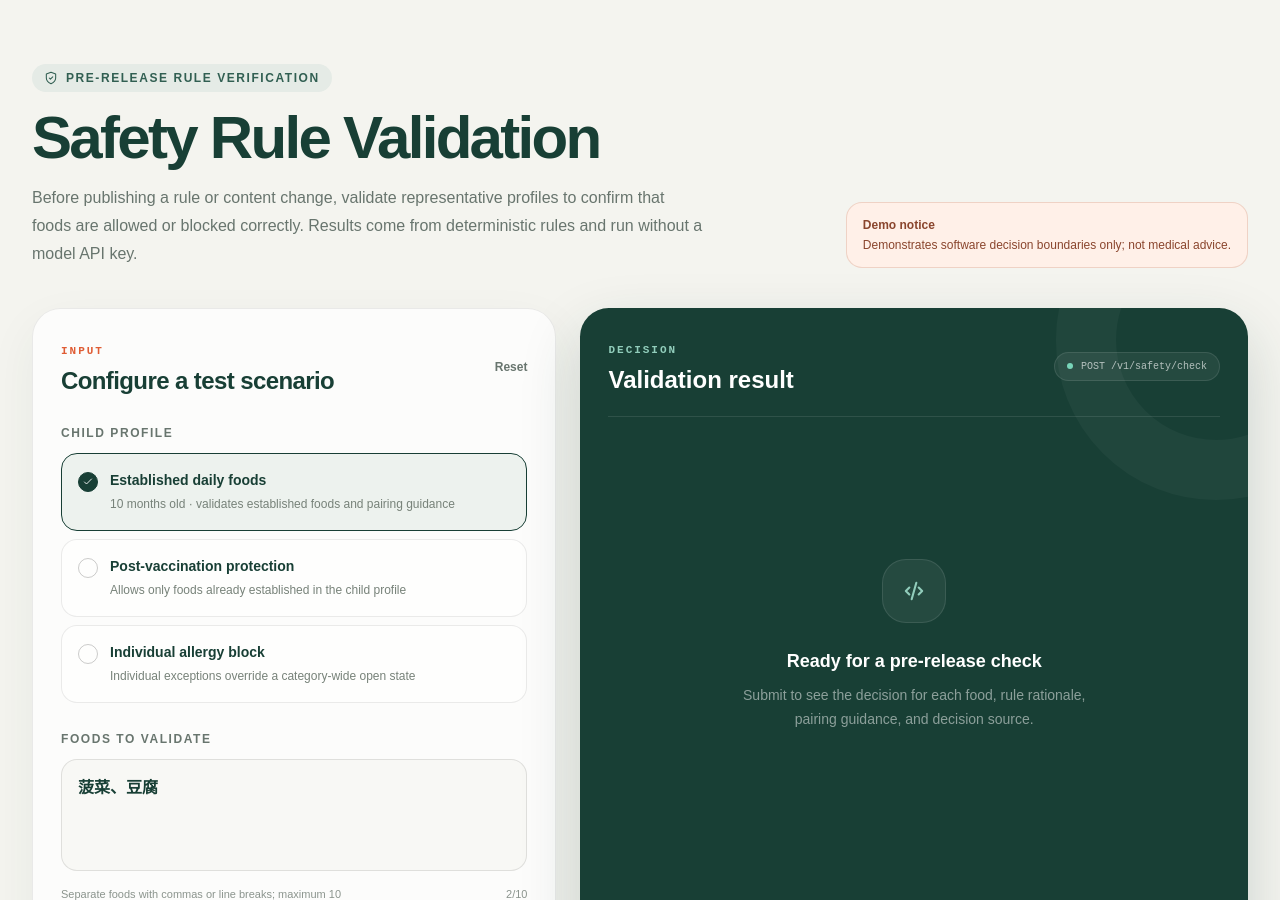
Test: SafetyLabPage › disables empty submissions, parses separators, and resets the lab
Clear the text box labelled "Foods to validate": [294, 815] box x1=61 y1=759 x2=528 y2=871
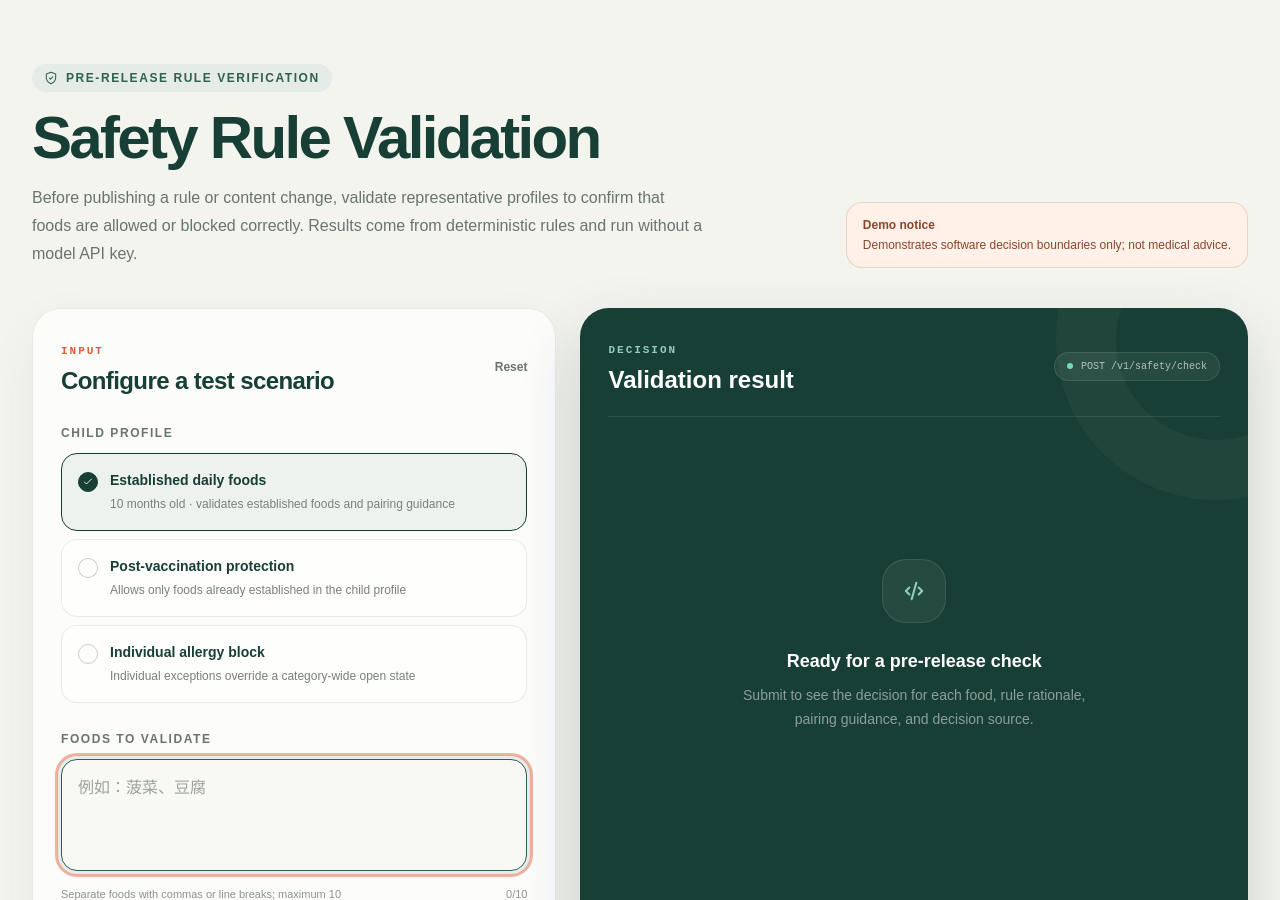
In the text box labelled "Foods to validate": [294, 815] box x1=61 y1=759 x2=528 y2=871, type "菠菜、菠菜、豆腐"
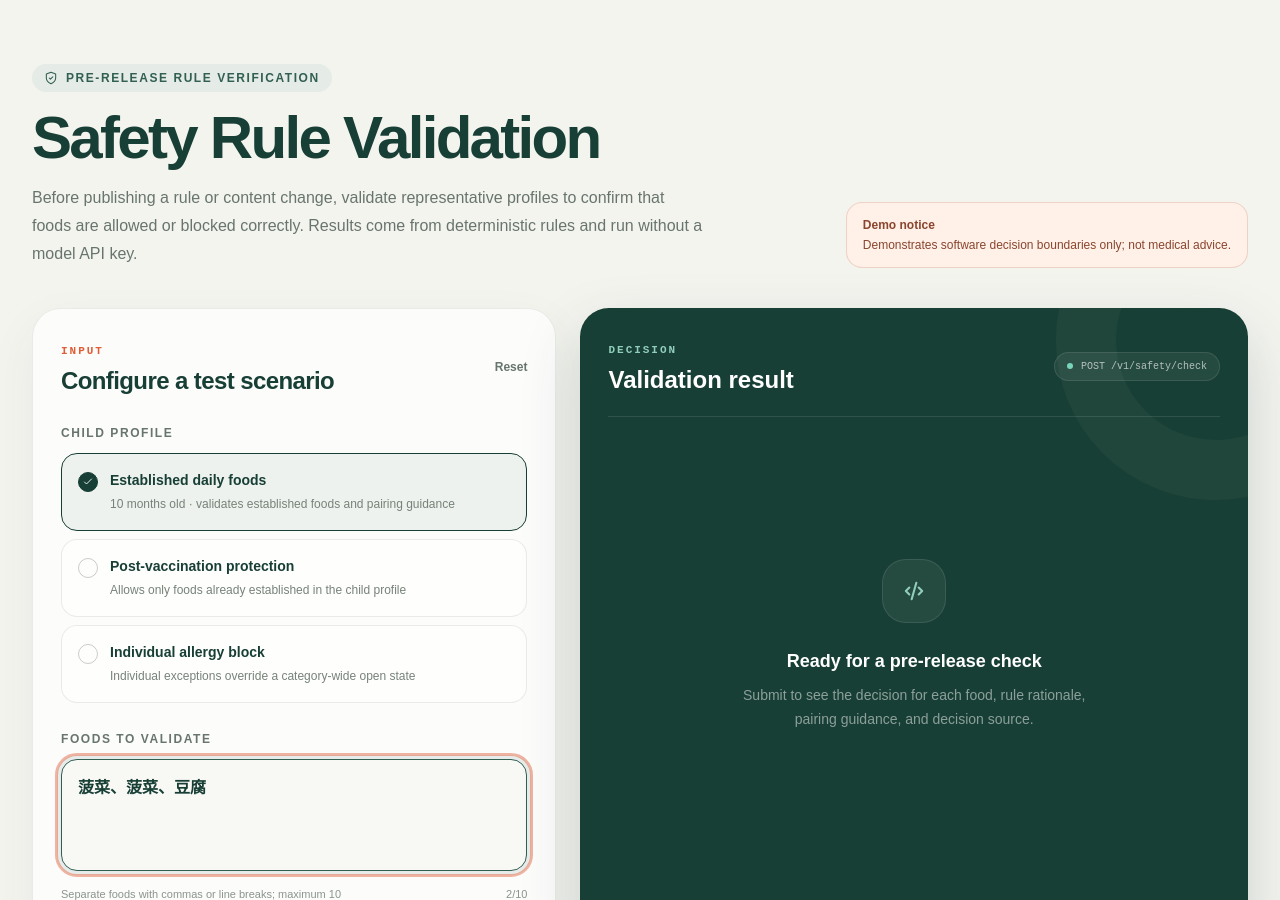
Click the button "Reset": [511, 367] box x1=495 y1=359 x2=528 y2=375
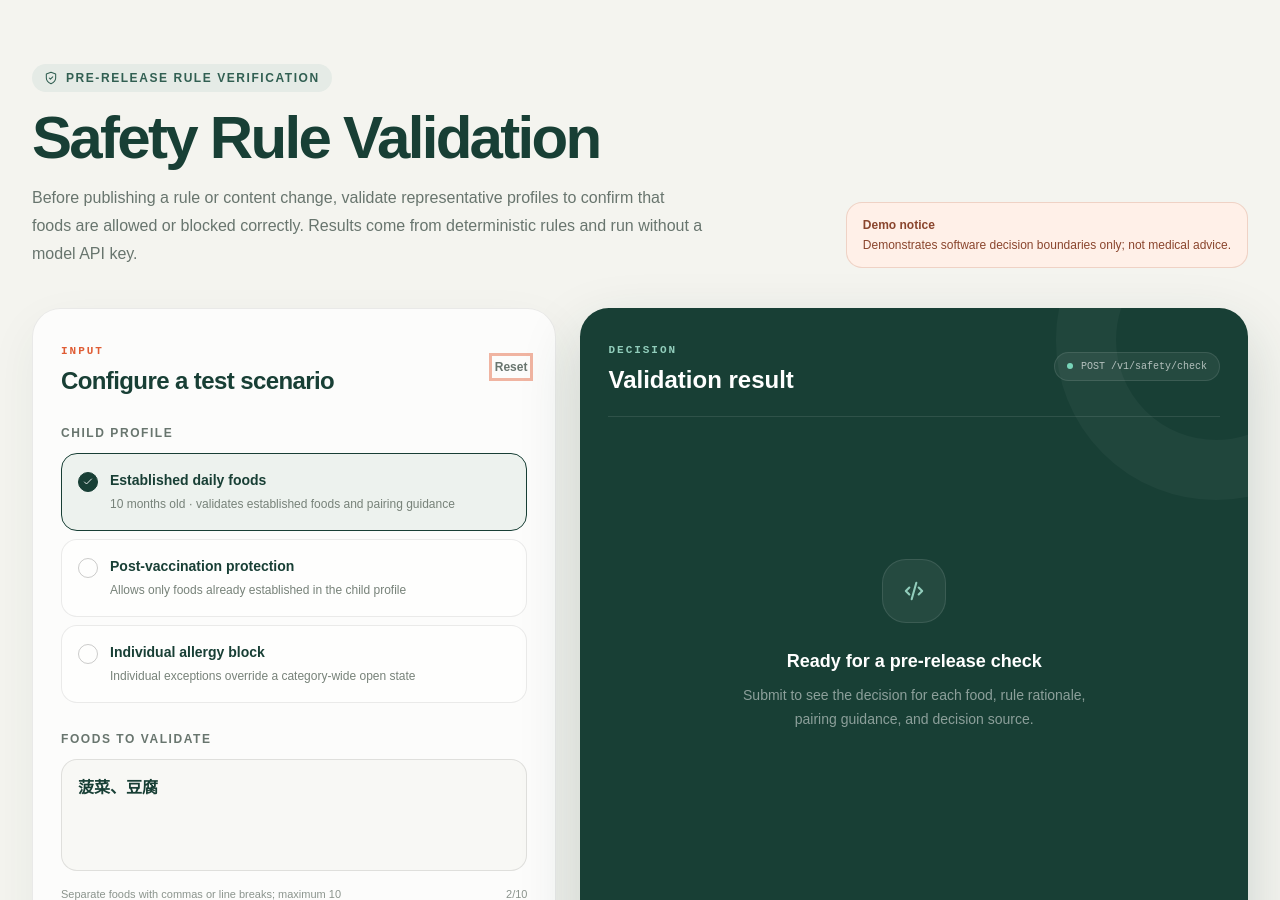
Expected: the text box labelled "Foods to validate" holds "菠菜、豆腐", x1=61 y1=759 x2=528 y2=871
